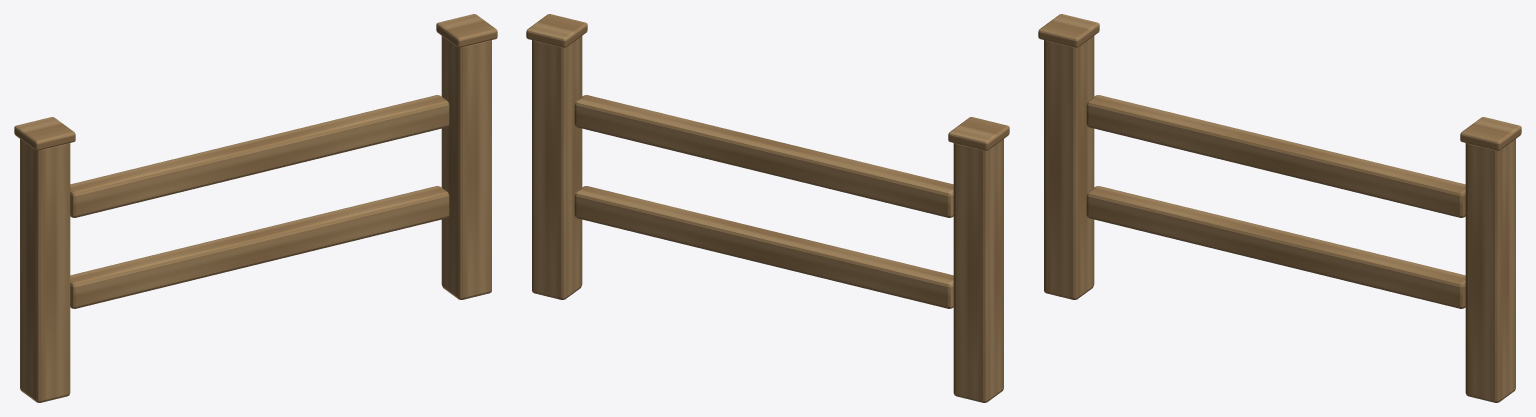
File: fence_straight_2m.glb
The picture shows the model from 3 angles, left to right: view 1: azimuth 30°, elevation 25°; view 2: azimuth 150°, elevation 25°; view 3: azimuth 330°, elevation 25°; orthographic projection.
Visible parts, largest first — view 1: rail.001, rail, post.004, post.005, post_cap.001, post_cap; view 2: rail.001, rail, post.004, post.005, post_cap.001, post_cap; view 3: rail.001, rail, post.005, post.004, post_cap, post_cap.001.
Boxes of the visible parts, x1,y1,x2,y2 form: rail.001: (70, 95, 449, 217); rail: (70, 186, 449, 308); post.004: (20, 139, 70, 402); post.005: (441, 36, 491, 299); post_cap.001: (436, 14, 497, 47); post_cap: (14, 117, 75, 150); rail.001: (574, 95, 953, 217); rail: (574, 186, 953, 308); post.004: (953, 139, 1003, 402); post.005: (532, 36, 582, 299); post_cap.001: (526, 14, 587, 47); post_cap: (948, 117, 1009, 150); rail.001: (1086, 95, 1465, 217); rail: (1086, 186, 1465, 308); post.005: (1465, 139, 1515, 402); post.004: (1044, 36, 1094, 299); post_cap: (1038, 14, 1099, 47); post_cap.001: (1460, 117, 1521, 150).
Size of the model in its own units: 2.19 by 1.2 by 0.19.
Materials: 2 (2 with a texture image).
